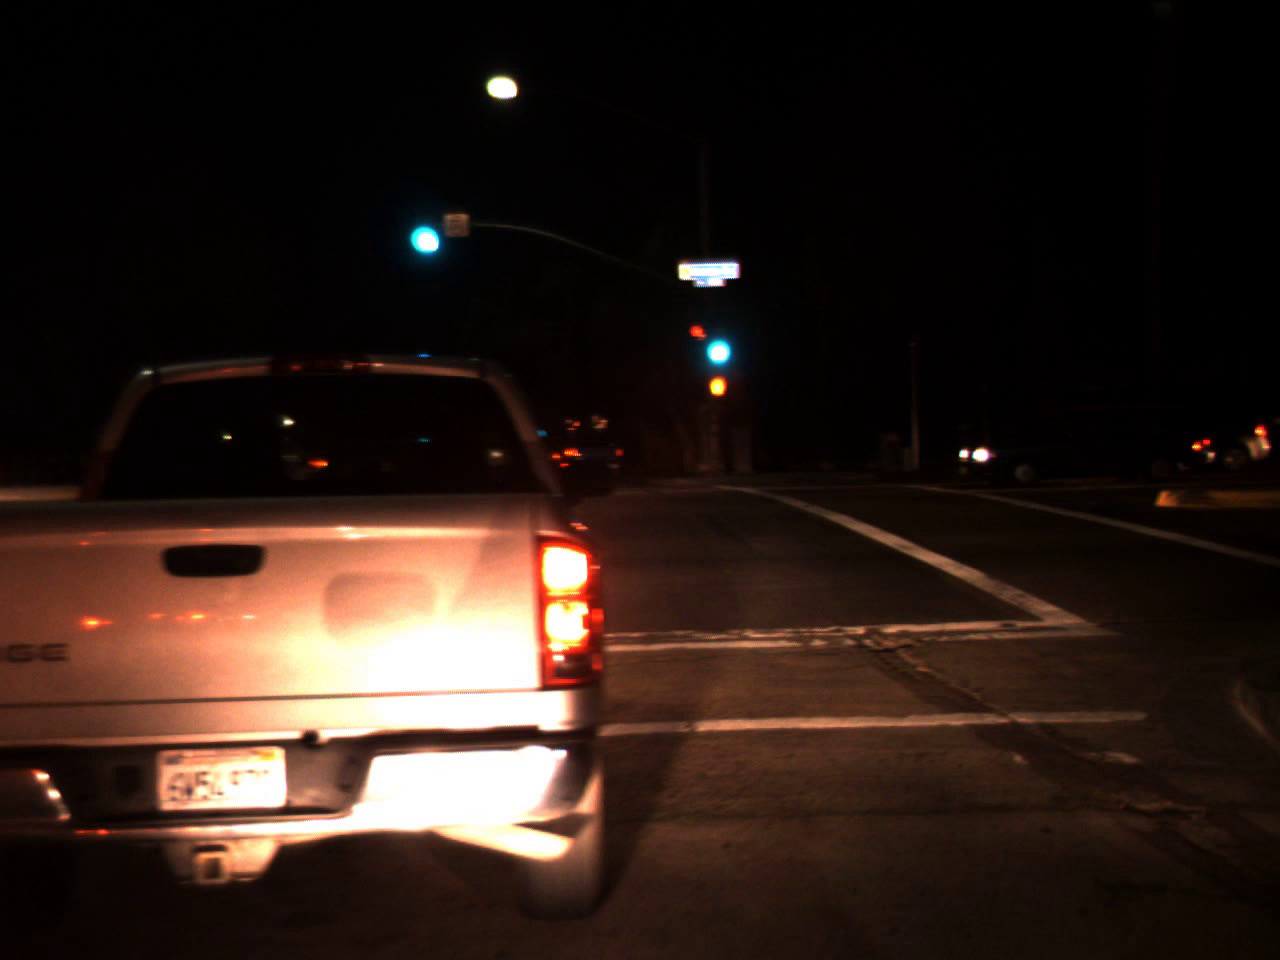go: (398, 192, 446, 264), (697, 306, 736, 375)
